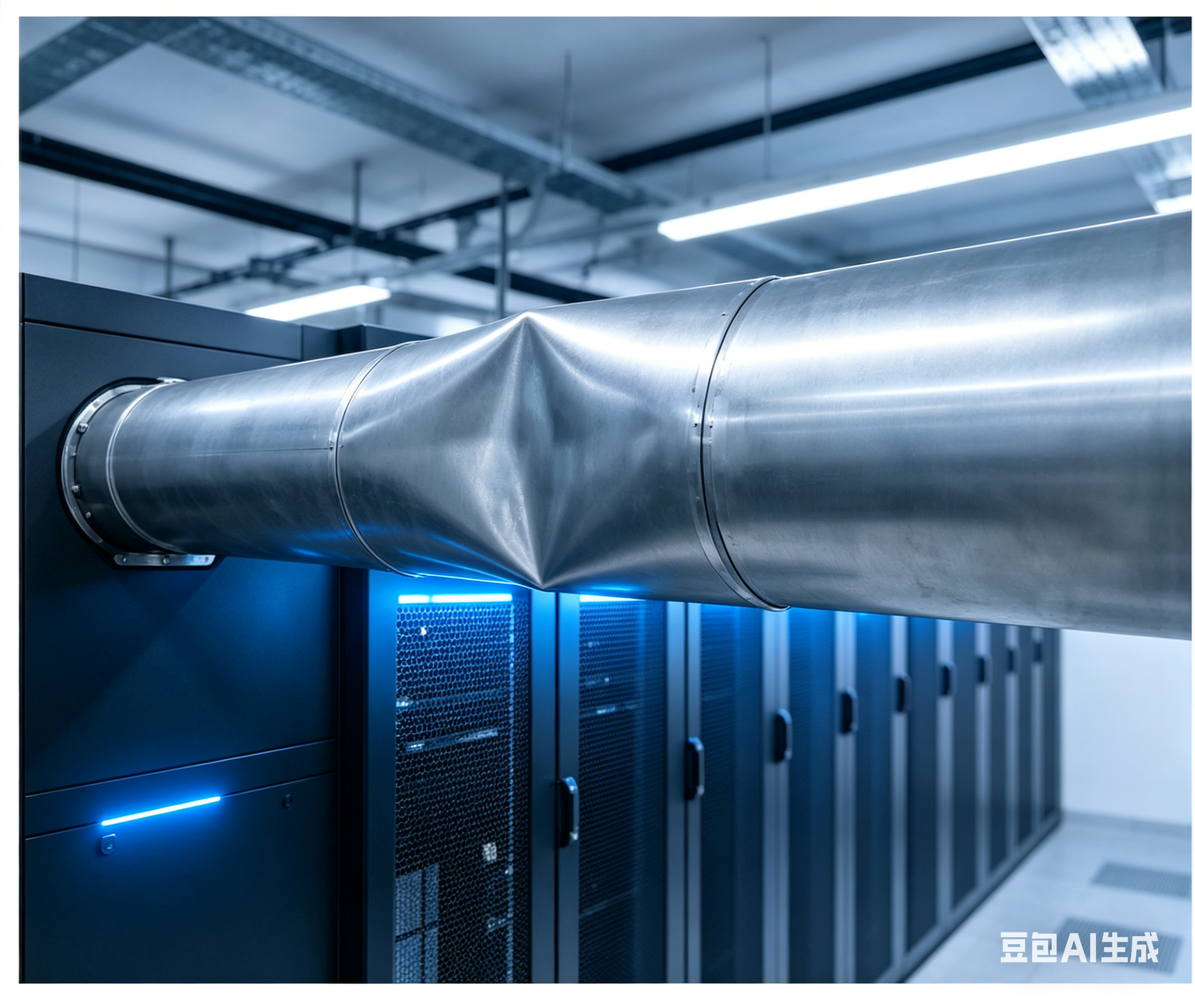Leakage: (414, 307, 676, 609)
